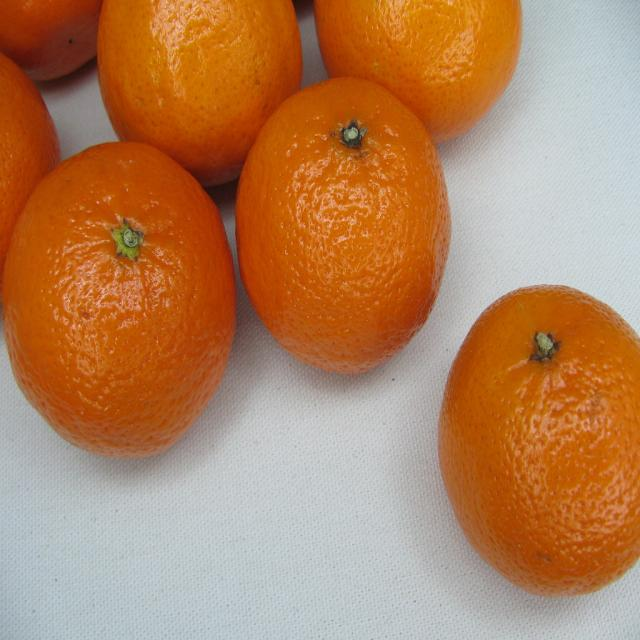Orange: (4, 141, 236, 462), (225, 76, 454, 378), (439, 284, 640, 598), (99, 0, 308, 180), (314, 1, 526, 140)
